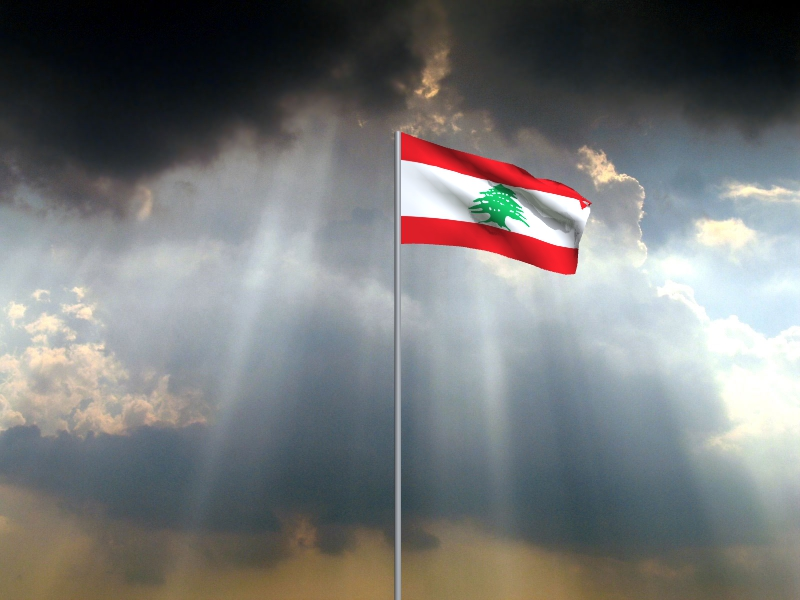lb: (402, 132, 593, 277)
